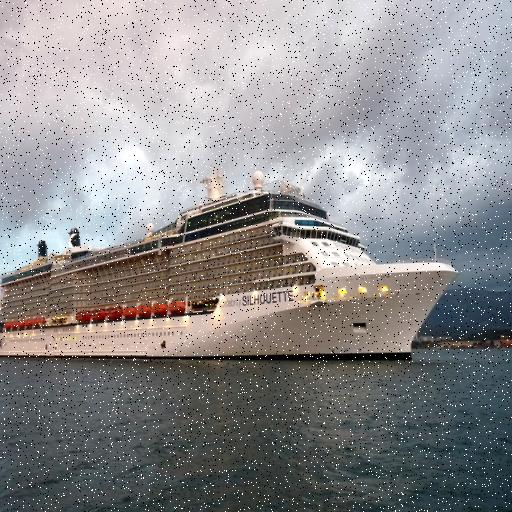cruises: (1, 158, 463, 373)
